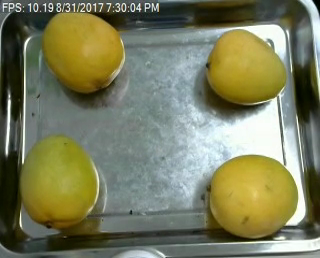Mango: (39, 10, 130, 98), (15, 136, 100, 227), (207, 156, 300, 238), (205, 26, 288, 105)
